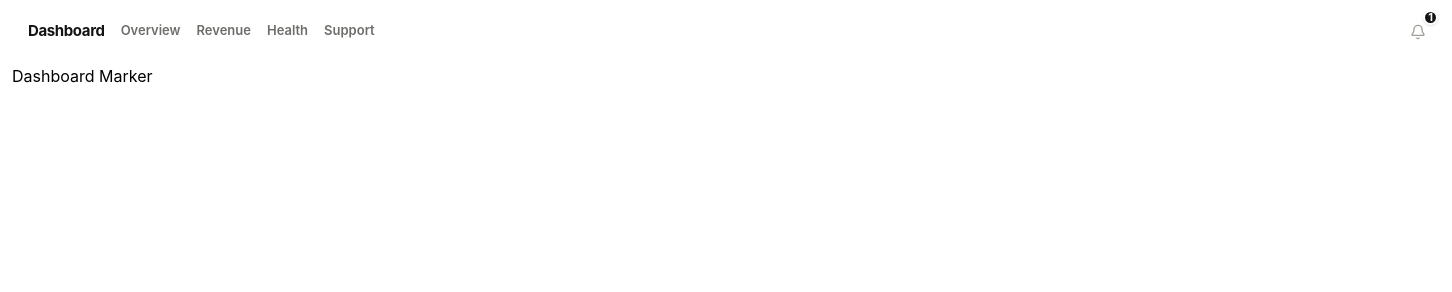
Test: Navbar notification bell › opens on click and lists real notifications, newest state first as given
Click the button named "Notifications" at (1418, 32), box [1400,14,1436,50]
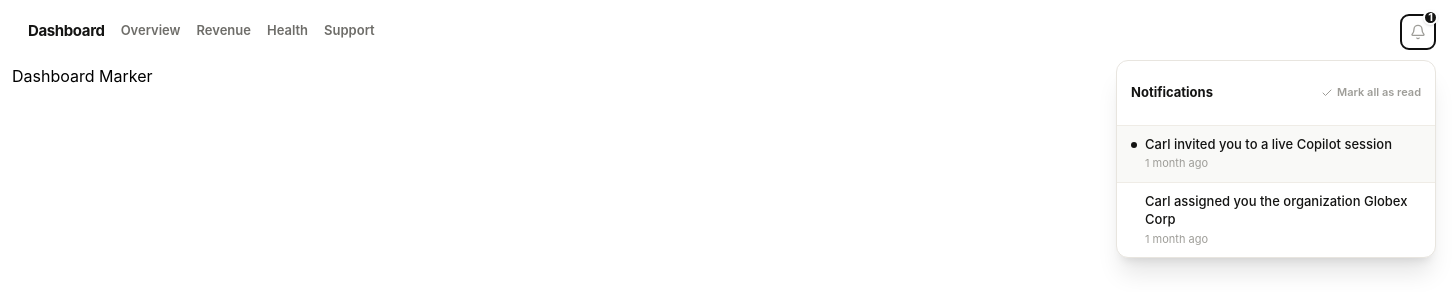
Now the text "Notifications" is shown, box [1131,83,1213,102]
Now the text "Carl invited you to a live Copilot session" is shown, box [1145,136,1392,153]
Now the text "Carl assigned you the organization Globex Corp" is shown, box [1145,193,1421,229]
